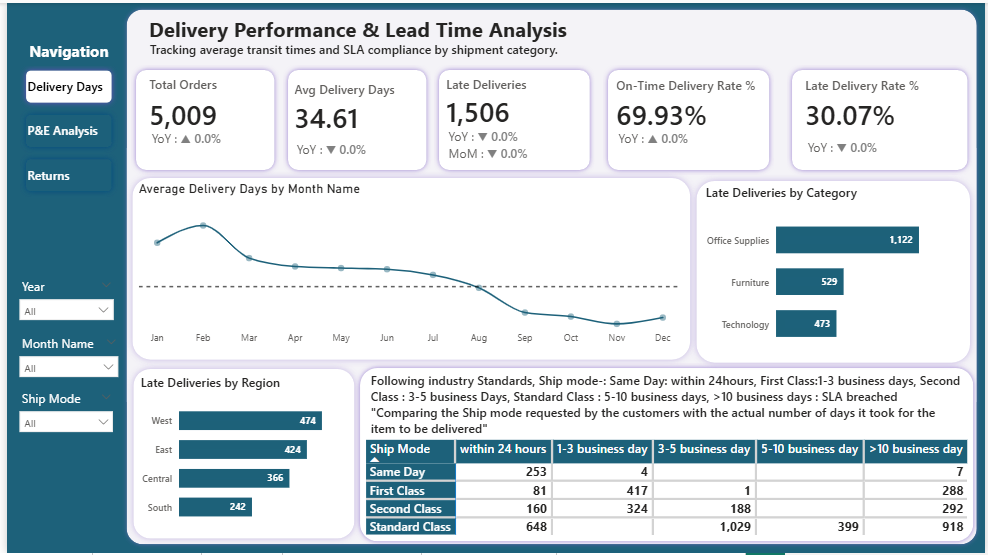

The page's visual inventory and layout, read from the dashboard file:
{"tool":"powerbi","page":{"name":"Delivery Days","canvas":[1280,720],"ordinal":0},"visuals":[{"type":"shape","box":[151,3,1125,712],"z":0},{"type":"shape","box":[162,81,194.3,144],"z":0,"group":"g8"},{"type":"group","id":"g1","title":"Group 1","box":[360.3,81,194.3,144],"z":0,"group":"g15"},{"type":"shape","box":[360.3,81,194.3,144],"z":0,"group":"g1"},{"type":"shape","box":[558.7,81,210.5,144],"z":0,"group":"g10"},{"type":"shape","box":[779.3,81,224.2,144],"z":0,"group":"g14"},{"type":"shape","box":[1020.1,81,242.9,144],"z":0,"group":"g12"},{"type":"shape","box":[145,220,768,256],"z":0,"group":"g2"},{"type":"group","id":"g2","title":"Group 2","box":[145,220,768,256],"z":0,"group":"g3"},{"type":"group","id":"g3","title":"Group 6","box":[145,220,768,256],"z":0,"group":"g16"},{"type":"group","id":"g4","title":"Group 2","box":[884,224,396,256],"z":0,"group":"g5"},{"type":"shape","box":[884,224,396,256],"z":0,"group":"g4"},{"type":"group","id":"g5","title":"Group 6","box":[884,224,396,256],"z":0,"group":"g11"},{"type":"group","id":"g6","title":"Group 2","box":[146,470,327,240],"z":0,"group":"g7"},{"type":"shape","box":[146,470,327,240],"z":0,"group":"g6"},{"type":"group","id":"g7","title":"Group 6","box":[146,470,327,240],"z":0,"group":"g13"},{"type":"shape","box":[456,471,816,240],"z":0,"group":"g9"},{"type":"cardVisual","fields":{"Data":["Dax Measures.Total_Orders"]},"box":[162,81,178.1,144],"z":1000,"group":"g8"},{"type":"group","id":"g8","title":"Group 3","box":[162,81,194.3,144],"z":1000,"group":"g15"},{"type":"cardVisual","fields":{"Data":["Dax Measures.Avg Delivery Days"]},"box":[360.3,81,181.3,144],"z":1000,"group":"g1"},{"type":"cardVisual","fields":{"Data":["Dax Measures.Late Deliveries"]},"box":[558.7,81,182.4,160],"z":1000,"group":"g10"},{"type":"cardVisual","fields":{"Data":["Dax Measures.On-Time Delivery Rate %"]},"box":[773.2,81,242.9,144],"z":1000,"group":"g14"},{"type":"cardVisual","fields":{"Data":["Dax Measures.Late Delivery Rate %"]},"box":[1020.1,81,226.7,144],"z":1000,"group":"g12"},{"type":"lineChart","fields":{"Category":["Calendar Table.Year Hierarchy.Year","Calendar Table.Year Hierarchy.Month Name","Calendar Table.Year Hierarchy.Day Name"],"Y":["Dax Measures.Avg Delivery Days"]},"box":[167,233,720,224],"z":1000,"group":"g16"},{"type":"barChart","fields":{"Category":["Dim_Products.Category"],"Y":["Dax Measures.Late Deliveries"]},"box":[910,237,352,230],"z":1000,"group":"g11"},{"type":"group","id":"g9","title":"Group 7","box":[456,471,816,240],"z":1000},{"type":"barChart","title":"    Late Deliveries by Region","fields":{"Category":["Dim_Locations.Region"],"Y":["Dax Measures.Late Deliveries"]},"box":[170,486,296.7,208],"z":1000,"group":"g13"},{"type":"pivotTable","fields":{"Columns":["Delivery Sort.Delivery Classification"],"Rows":["ShipMode Sort.Ship Mode"],"Values":["Dax Measures.Total_Orders"]},"box":[467,567,799,144],"z":1000,"group":"g9"},{"type":"group","id":"g10","title":"Group 4","box":[558.7,81,210.5,160],"z":2000,"group":"g15"},{"type":"group","id":"g11","title":"Group 8","box":[884,224,396,256],"z":2000},{"type":"textbox","box":[472,477,784,96],"z":2000,"group":"g9"},{"type":"group","id":"g12","title":"Group 5","box":[1020.1,81,242.9,144],"z":3000,"group":"g15"},{"type":"group","id":"g13","title":"Group 8","box":[146,470,327,240],"z":3000},{"type":"textbox","box":[174,16,608,48],"z":4000},{"type":"group","id":"g14","title":"Group 9","box":[773.2,81,242.9,144],"z":4000,"group":"g15"},{"type":"textbox","box":[176,41,560,32],"z":5000},{"type":"pageNavigator","title":"Navigation","box":[17.3,49,128.2,207.4],"z":6000},{"type":"group","id":"g15","title":"Group 10","box":[162,81,1101,160],"z":7000},{"type":"group","id":"g16","title":"Group 11","box":[145,220,768,256],"z":8000},{"type":"slicer","fields":{"Values":["Calendar Table.Year"]},"box":[6.9,360.6,137.6,64.7],"z":9000},{"type":"slicer","fields":{"Values":["Calendar Table.Month Name"]},"box":[6.5,434.6,144,65.5],"z":10000},{"type":"slicer","fields":{"Values":["ShipMode Sort.Ship Mode"]},"box":[6.5,506.6,137.5,65.5],"z":11000}]}

Visuals, with their boxes in screenshot pixels (x1, y1, x2, y2), scaled from the page's 1280x720 canvas onto the 988x555 screenshot:
shape: 117:2:985:551
shape: 125:62:275:173
"Group 1" group: 278:62:428:173
shape: 278:62:428:173
shape: 431:62:594:173
shape: 602:62:775:173
shape: 787:62:975:173
shape: 112:170:705:367
"Group 2" group: 112:170:705:367
"Group 6" group: 112:170:705:367
"Group 2" group: 682:173:987:370
shape: 682:173:987:370
"Group 6" group: 682:173:987:370
"Group 2" group: 113:362:365:547
shape: 113:362:365:547
"Group 6" group: 113:362:365:547
shape: 352:363:982:548
cardVisual - Dax Measures.Total_Orders: 125:62:263:173
"Group 3" group: 125:62:275:173
cardVisual - Dax Measures.Avg Delivery Days: 278:62:418:173
cardVisual - Dax Measures.Late Deliveries: 431:62:572:186
cardVisual - Dax Measures.On-Time Delivery Rate %: 597:62:784:173
cardVisual - Dax Measures.Late Delivery Rate %: 787:62:962:173
lineChart - Calendar Table.Year Hierarchy.Year x Calendar Table.Year Hierarchy.Month Name: 129:180:685:352
barChart - Dim_Products.Category x Dax Measures.Late Deliveries: 702:183:974:360
"Group 7" group: 352:363:982:548
"    Late Deliveries by Region" barChart: 131:375:360:535
pivotTable - Delivery Sort.Delivery Classification x ShipMode Sort.Ship Mode: 360:437:977:548
"Group 4" group: 431:62:594:186
"Group 8" group: 682:173:987:370
textbox: 364:368:969:442
"Group 5" group: 787:62:975:173
"Group 8" group: 113:362:365:547
textbox: 134:12:604:49
"Group 9" group: 597:62:784:173
textbox: 136:32:568:56
"Navigation" pageNavigator: 13:38:112:198
"Group 10" group: 125:62:975:186
"Group 11" group: 112:170:705:367
slicer - Calendar Table.Year: 5:278:112:328
slicer - Calendar Table.Month Name: 5:335:116:385
slicer - ShipMode Sort.Ship Mode: 5:391:111:441
